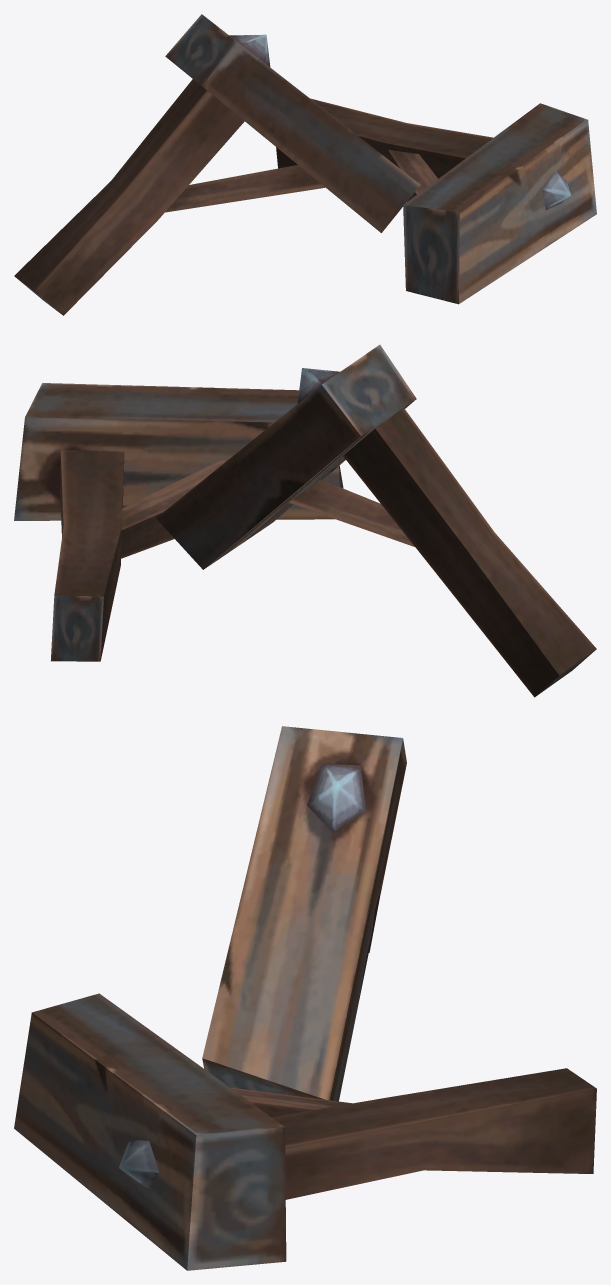
File: mine_railing_small_broken_01.fbx
The picture shows the model from 3 angles, top to bottom: view 1: azimuth 30°, elevation 25°; view 2: azimuth 150°, elevation 25°; view 3: azimuth 270°, elevation 25°; orthographic projection. The views are drawn at different scales.
Visible parts, largest first — view 1: 13_-_Default; view 2: 13_-_Default; view 3: 13_-_Default.
Part boxes in pixels (x1,y1,x2,y2): 13_-_Default: (14,14,596,315); 13_-_Default: (14,344,596,697); 13_-_Default: (14,726,596,1270).
Size of the model in its own units: 2.68 by 1.18 by 1.84.
